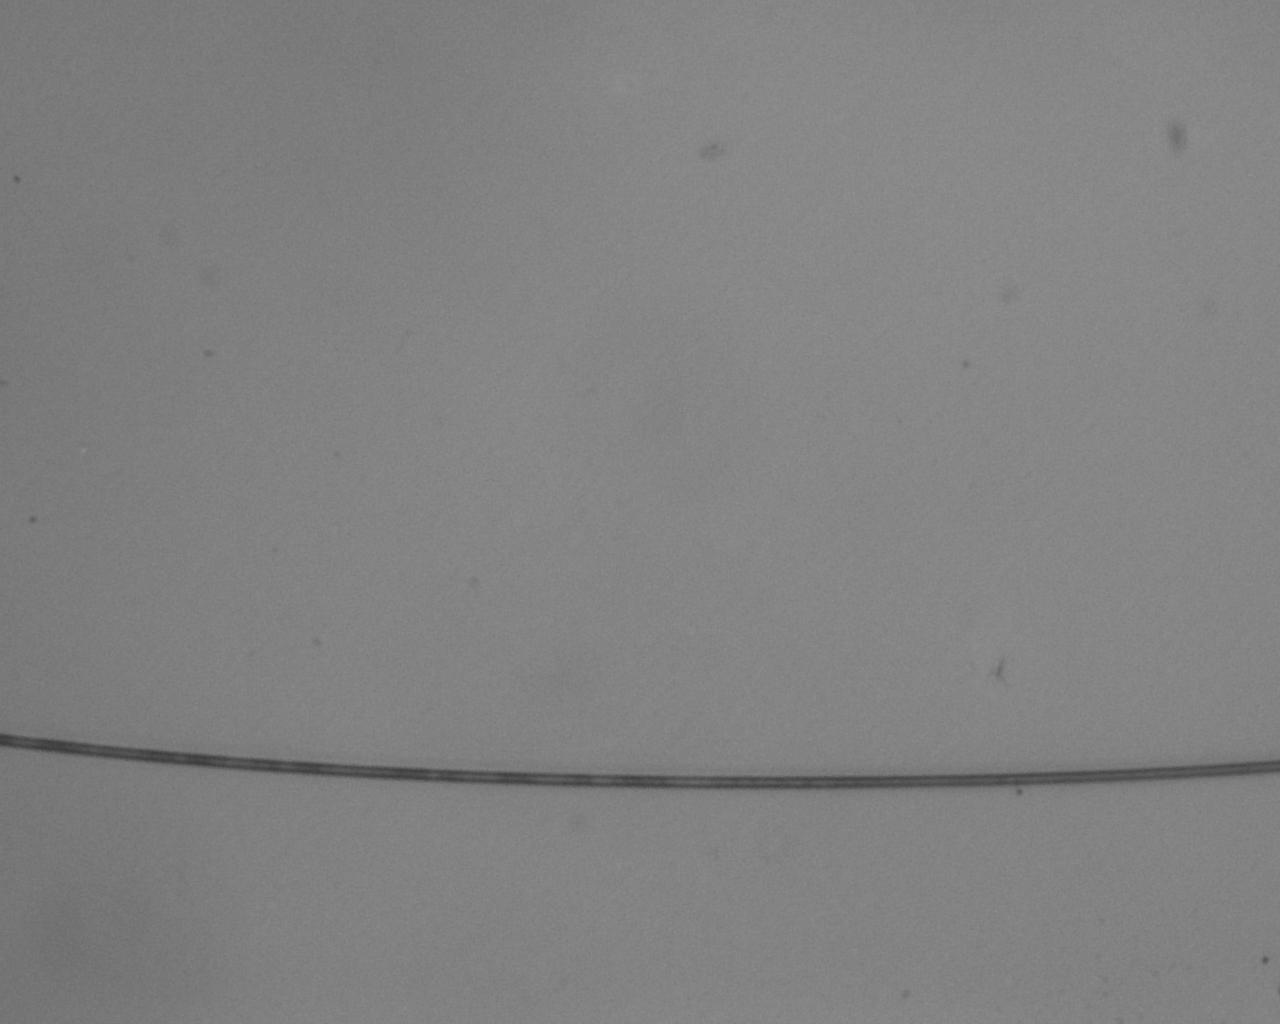fiber: (0, 419, 1280, 992)
